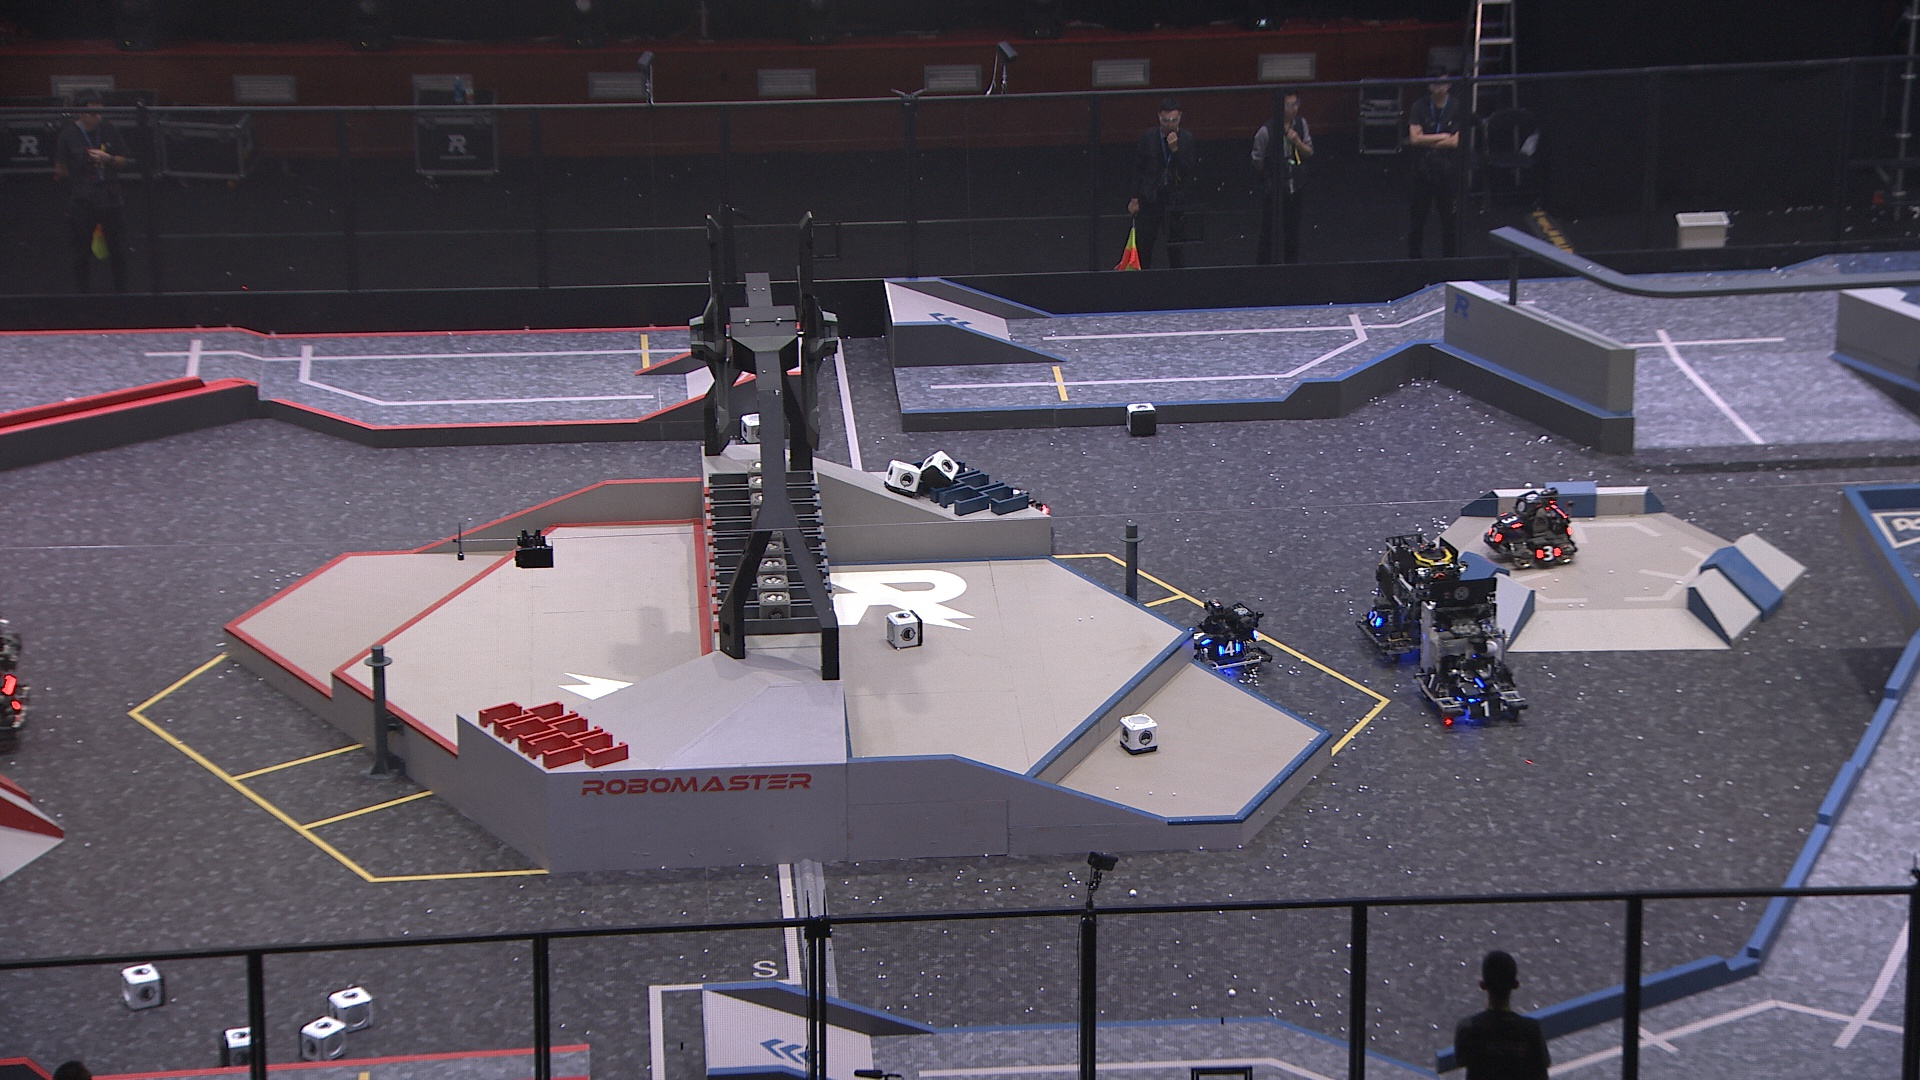armor: (1466, 700, 1505, 719), (1185, 624, 1211, 646), (1422, 669, 1441, 694), (1462, 680, 1499, 694), (1536, 543, 1563, 560), (1215, 641, 1244, 655), (1499, 509, 1522, 527), (1485, 524, 1503, 545), (1367, 608, 1381, 632)
car: (1414, 572, 1528, 728), (1353, 533, 1468, 669), (1481, 487, 1577, 575), (1179, 597, 1275, 680)
